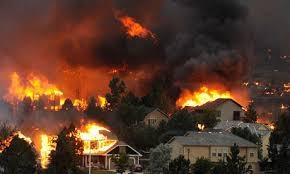fire: (7, 66, 116, 159), (176, 84, 249, 108), (119, 14, 155, 39)
